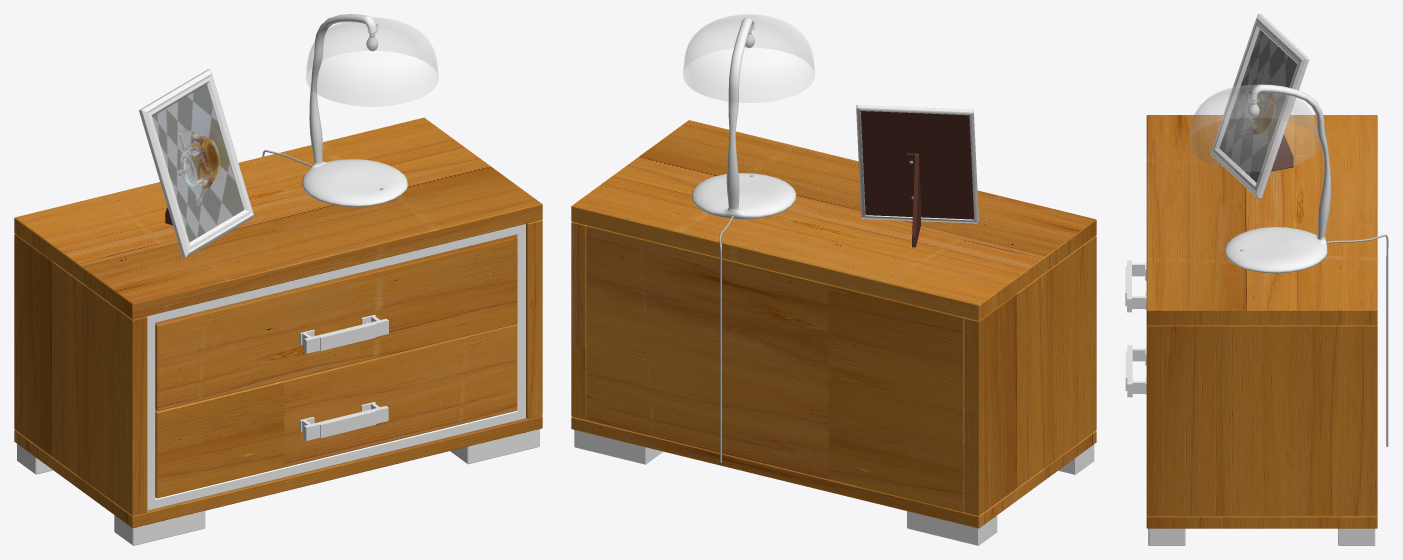
Rendered from nightstand_lamp.glb.
The picture shows the model from 3 angles, left to right: view 1: azimuth 30°, elevation 25°; view 2: azimuth 150°, elevation 25°; view 3: azimuth 270°, elevation 25°; orthographic projection. The views are drawn at different scales.
Visible parts, largest first — view 1: WoodFurniture_0001, StainlessSmooth_0001, LampGlass_0001, Picture, LampMetal_0002, PictureFrame, Aluminium_0003, Aluminium_0004; view 2: WoodFurniture_0001, PictureBacking, LampGlass_0001, LampMetal_0002, StainlessSmooth_0001, PictureFrame; view 3: WoodFurniture_0001, LampGlass_0001, LampMetal_0002, Picture, PictureFrame, StainlessSmooth_0001, PlasticCable_0001, Aluminium_0003, Aluminium_0004, PictureBacking.
Boxes of the visible parts, x1,y1,x2,y2 form: WoodFurniture_0001: [14, 117, 542, 528]; StainlessSmooth_0001: [17, 224, 539, 545]; LampGlass_0001: [306, 17, 438, 106]; Picture: [152, 85, 243, 242]; LampMetal_0002: [302, 14, 407, 206]; PictureFrame: [139, 69, 254, 257]; Aluminium_0003: [299, 402, 388, 440]; Aluminium_0004: [299, 314, 388, 353]; WoodFurniture_0001: [571, 120, 1096, 528]; PictureBacking: [860, 111, 973, 247]; LampGlass_0001: [683, 14, 814, 102]; LampMetal_0002: [691, 17, 796, 219]; StainlessSmooth_0001: [574, 430, 1094, 545]; PictureFrame: [856, 105, 978, 223]; WoodFurniture_0001: [1146, 115, 1377, 528]; LampGlass_0001: [1189, 85, 1318, 171]; LampMetal_0002: [1224, 84, 1330, 273]; Picture: [1219, 30, 1296, 182]; PictureFrame: [1210, 14, 1309, 199]; StainlessSmooth_0001: [1148, 528, 1375, 545]; PlasticCable_0001: [1240, 234, 1388, 446]; Aluminium_0003: [1125, 345, 1146, 397]; Aluminium_0004: [1125, 260, 1146, 312]; PictureBacking: [1271, 134, 1293, 171].
Size of the model in its own units: 0.6 by 0.5822 by 0.3416.
Materials: 4 (4 with a texture image).
